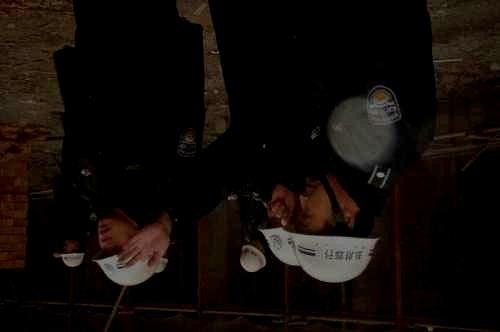helmet: (281, 176, 382, 283), (92, 216, 157, 286), (257, 203, 300, 267), (240, 238, 267, 273), (60, 243, 84, 267), (154, 253, 169, 274)
